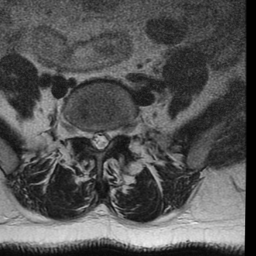CCS_normal: (95, 125, 103, 155)
LFS_normal: (111, 122, 120, 145)
LLS_normal: (103, 124, 111, 151)
RFS_stenosis: (79, 121, 88, 147)
RLS_normal: (88, 124, 95, 151)
